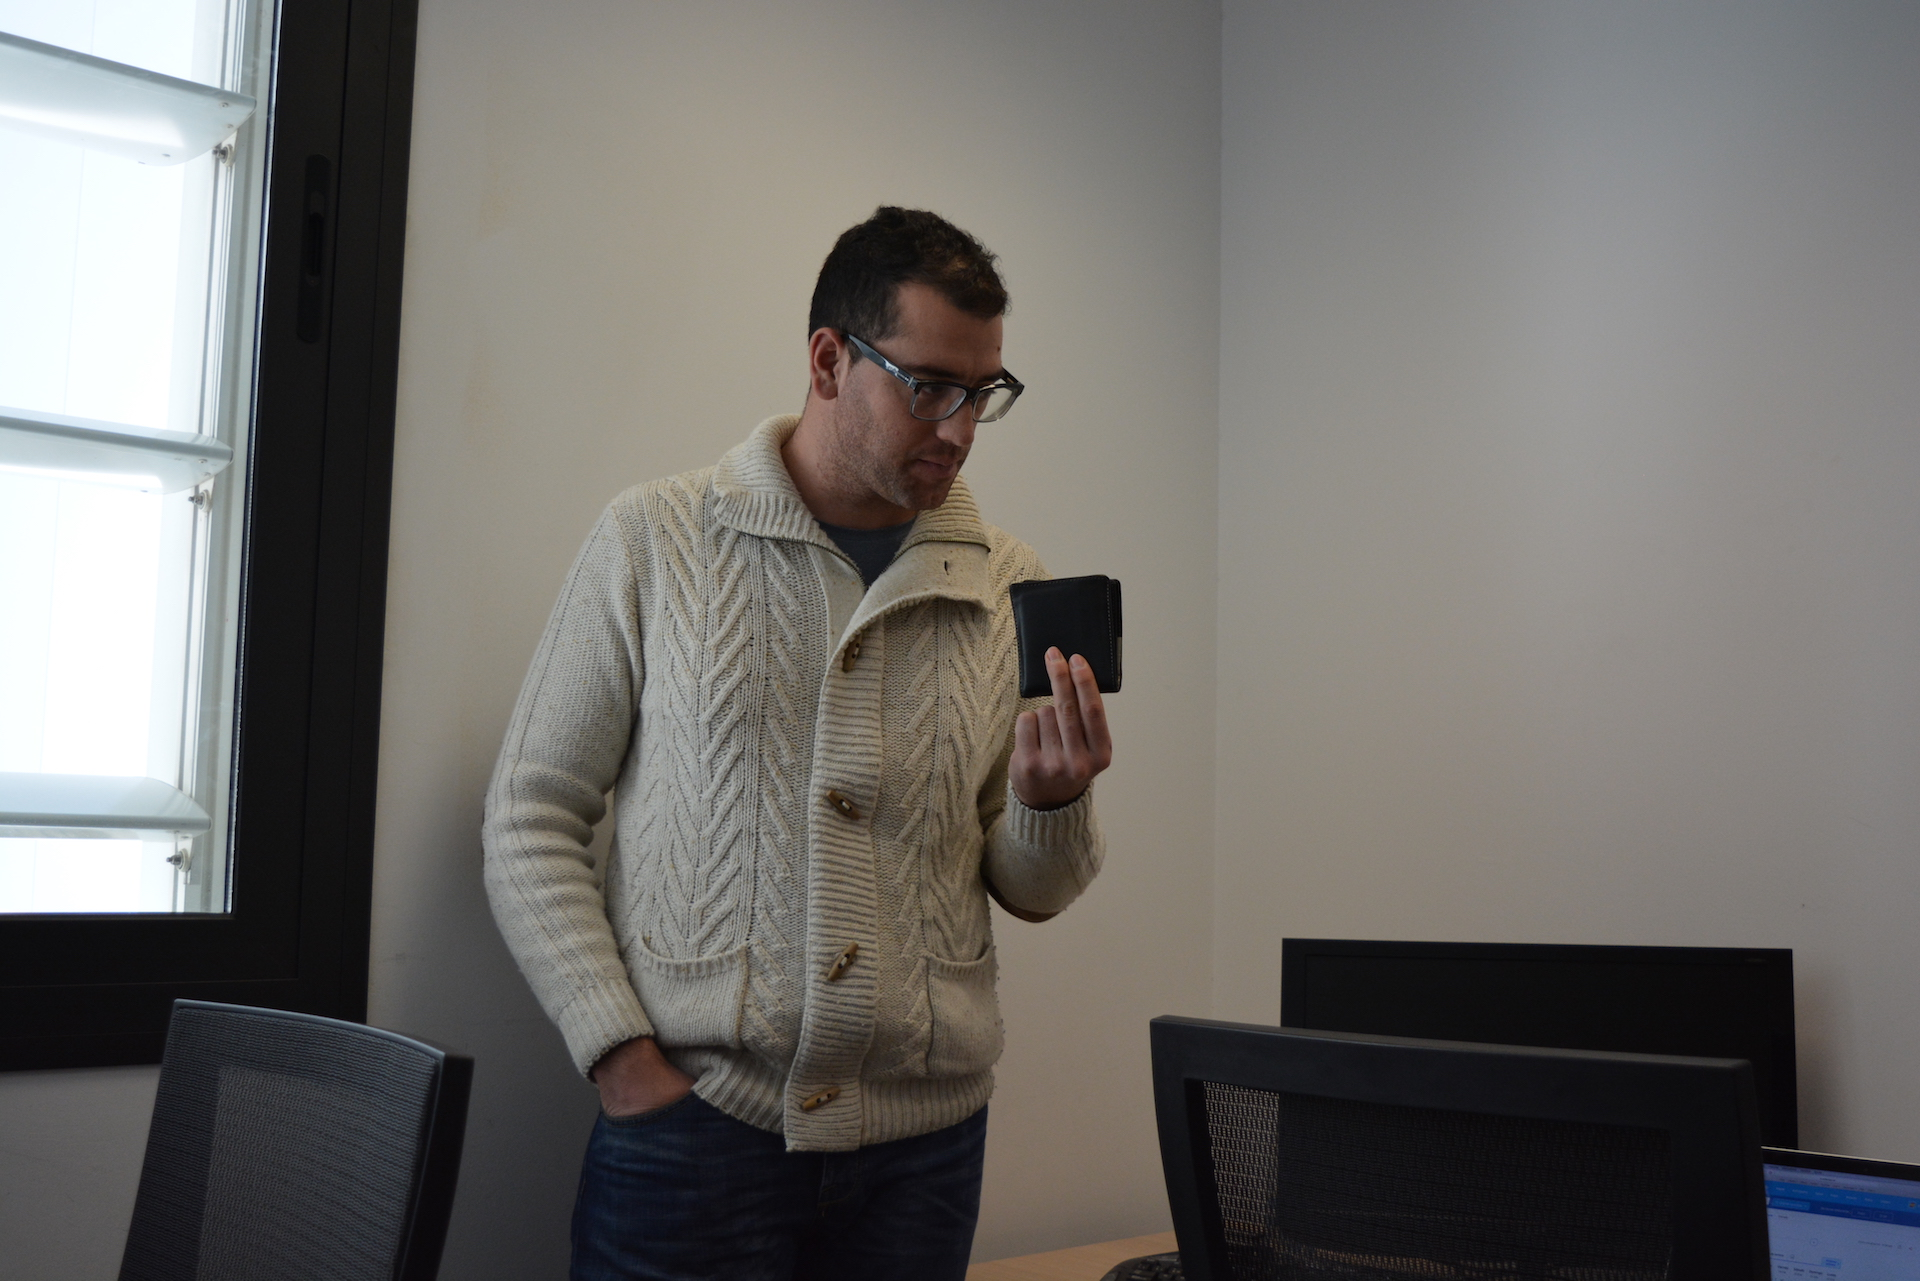monedero: (1008, 572, 1124, 701)
